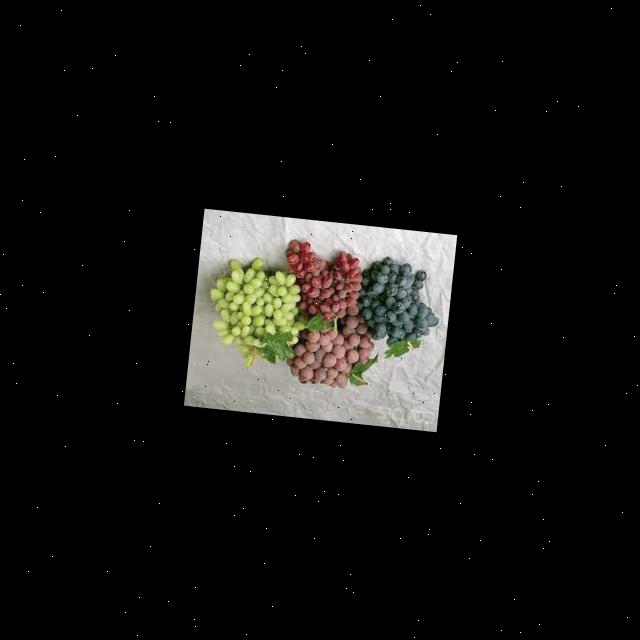grape: (202, 252, 313, 374), (353, 254, 446, 350), (279, 239, 366, 326)
